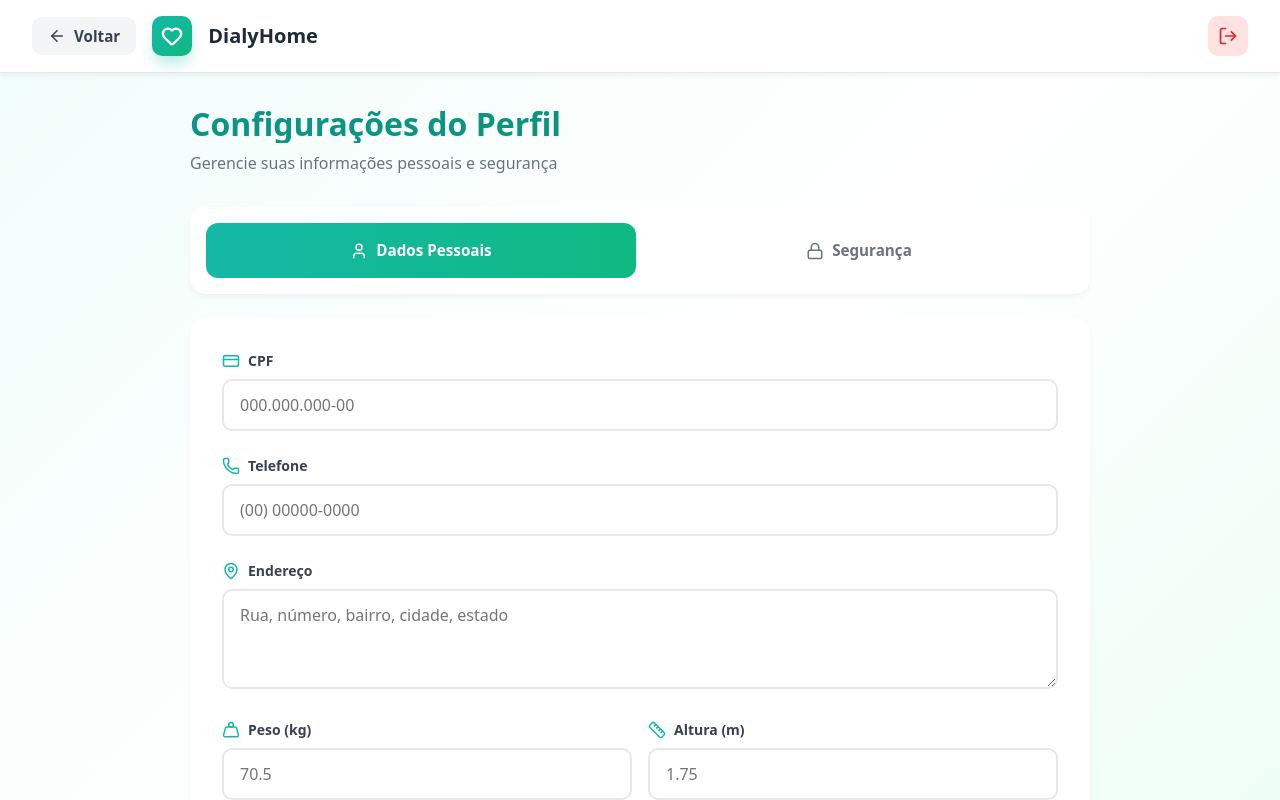
Test: 🧪 PatientProfile › alterna entre as abas Dados Pessoais e Segurança
This screenshot has width=1280, height=800.
Expected: the button "Dados Pessoais" is shown, top-left (206, 223), bottom-right (636, 278)
Click the button "Segurança" at (859, 251), box top-left (644, 223), bottom-right (1074, 278)
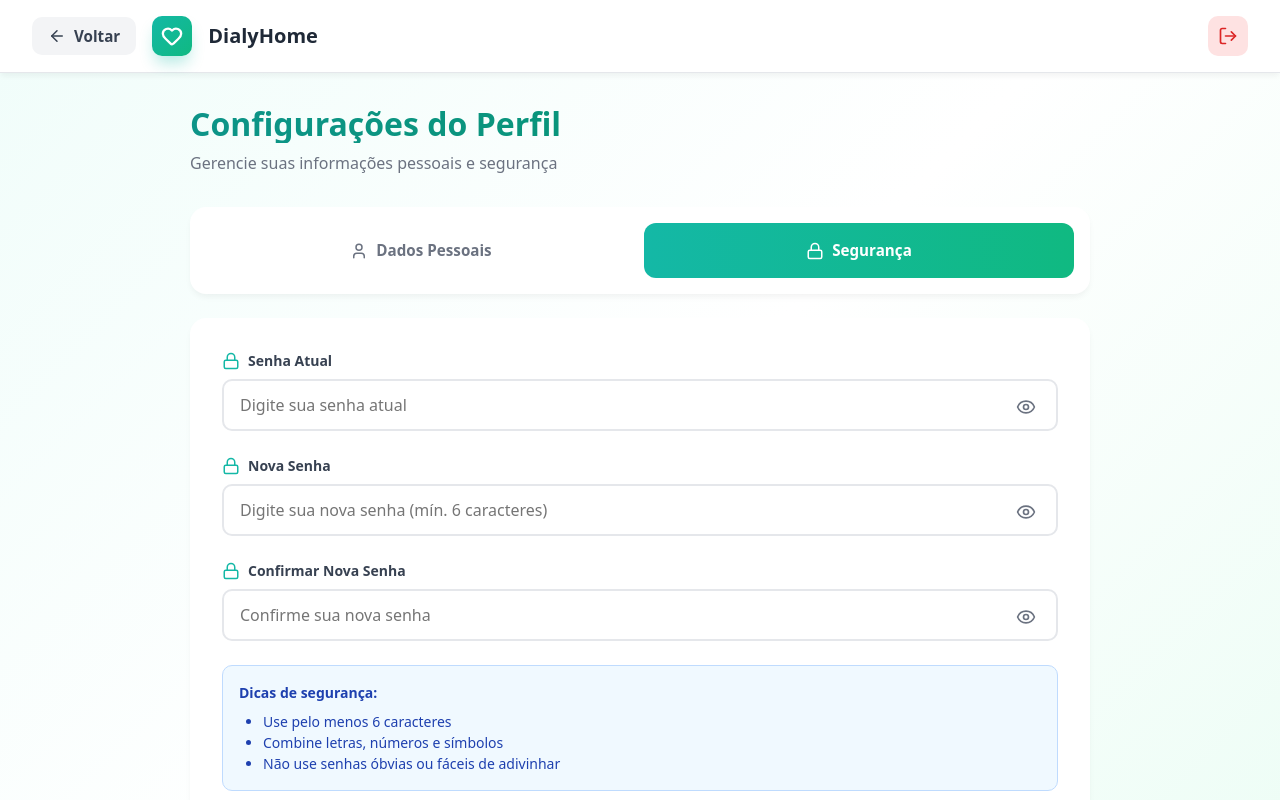
Expected: the text "Senha Atual" is shown, top-left (222, 351), bottom-right (332, 370)
